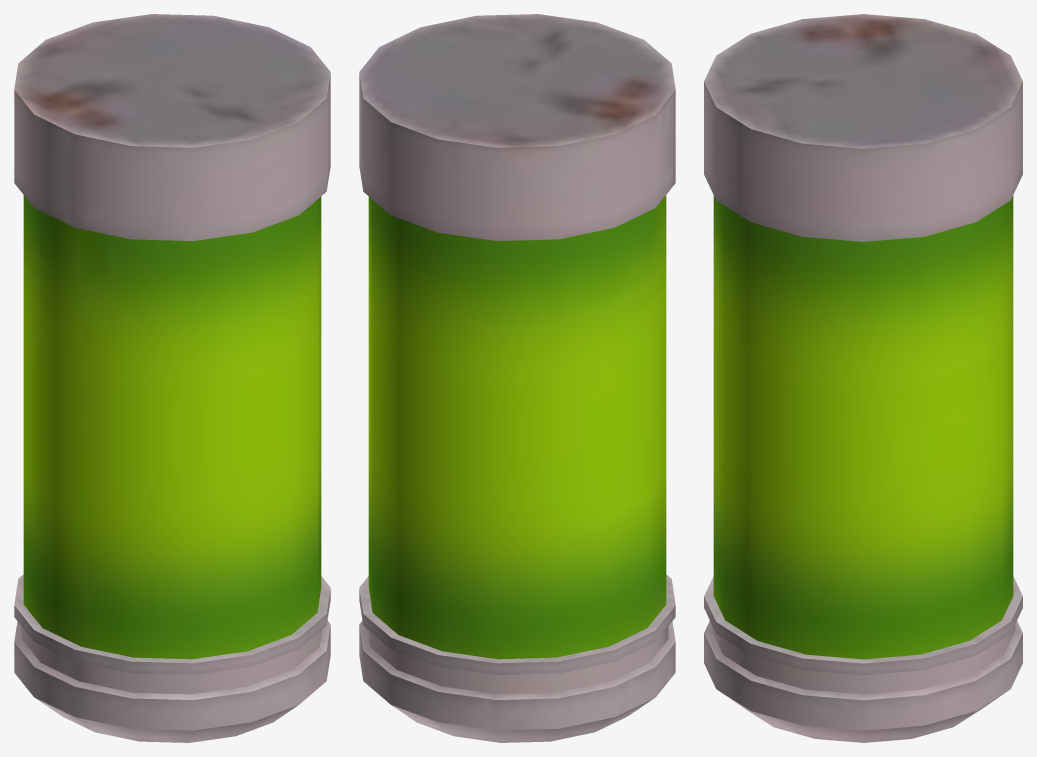
File: Prop_HealthPack_Tube.glb
3 views of the same model, side by side, from view 1: azimuth 30°, elevation 25°; view 2: azimuth 150°, elevation 25°; view 3: azimuth 270°, elevation 25° (orthographic).
Parts seen in each view (by area): view 1: Prop_HealthPack_Tube; view 2: Prop_HealthPack_Tube; view 3: Prop_HealthPack_Tube.
Part boxes in pixels (bbox=[...]): Prop_HealthPack_Tube: bbox=[14, 14, 330, 742]; Prop_HealthPack_Tube: bbox=[359, 14, 675, 742]; Prop_HealthPack_Tube: bbox=[704, 14, 1022, 742].
Bounding box in the file's own units: 0.1495 × 0.3146 × 0.1495.
Materials: 1 (1 with a texture image).
